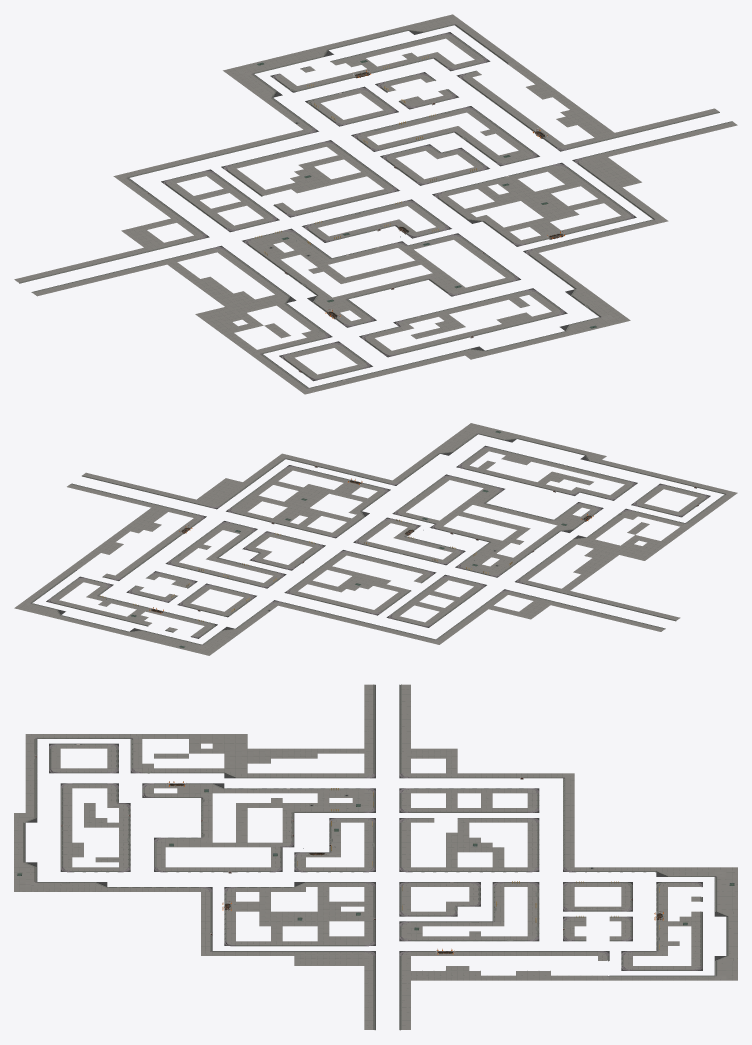
Rendered from SidewalkSpawn.glb.
The picture shows the model from 3 angles, top to bottom: view 1: azimuth 30°, elevation 25°; view 2: azimuth 150°, elevation 25°; view 3: azimuth 270°, elevation 25°; orthographic projection. The views are drawn at different scales.
Bounding box in the file's own units: 350 × 2.25 × 310.
Materials: 2 (2 with a texture image).
